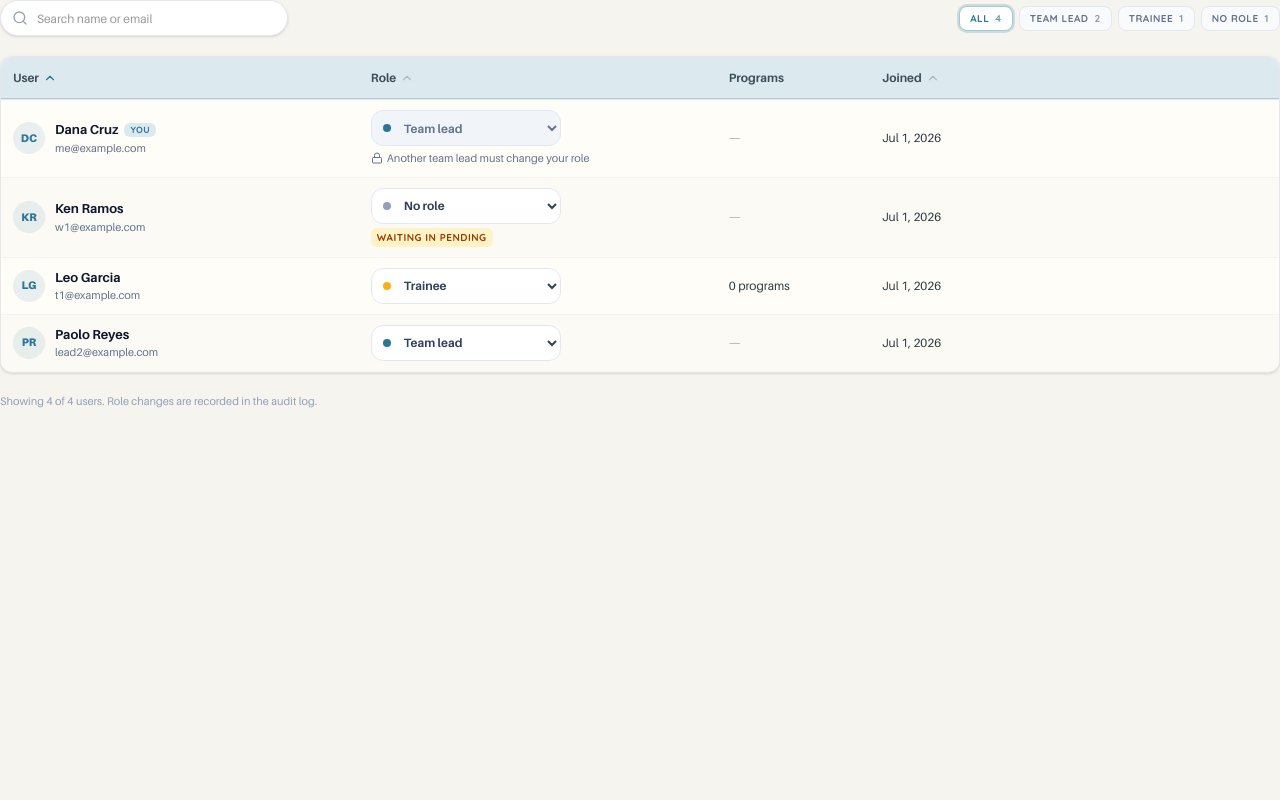
Scenario: UserRolesTable › uses the red confirm to remove access
The image size is (1280, 800).
Select "No role" in the dropdown named "Role for Paolo Reyes": (466, 342) [371,324,561,360]
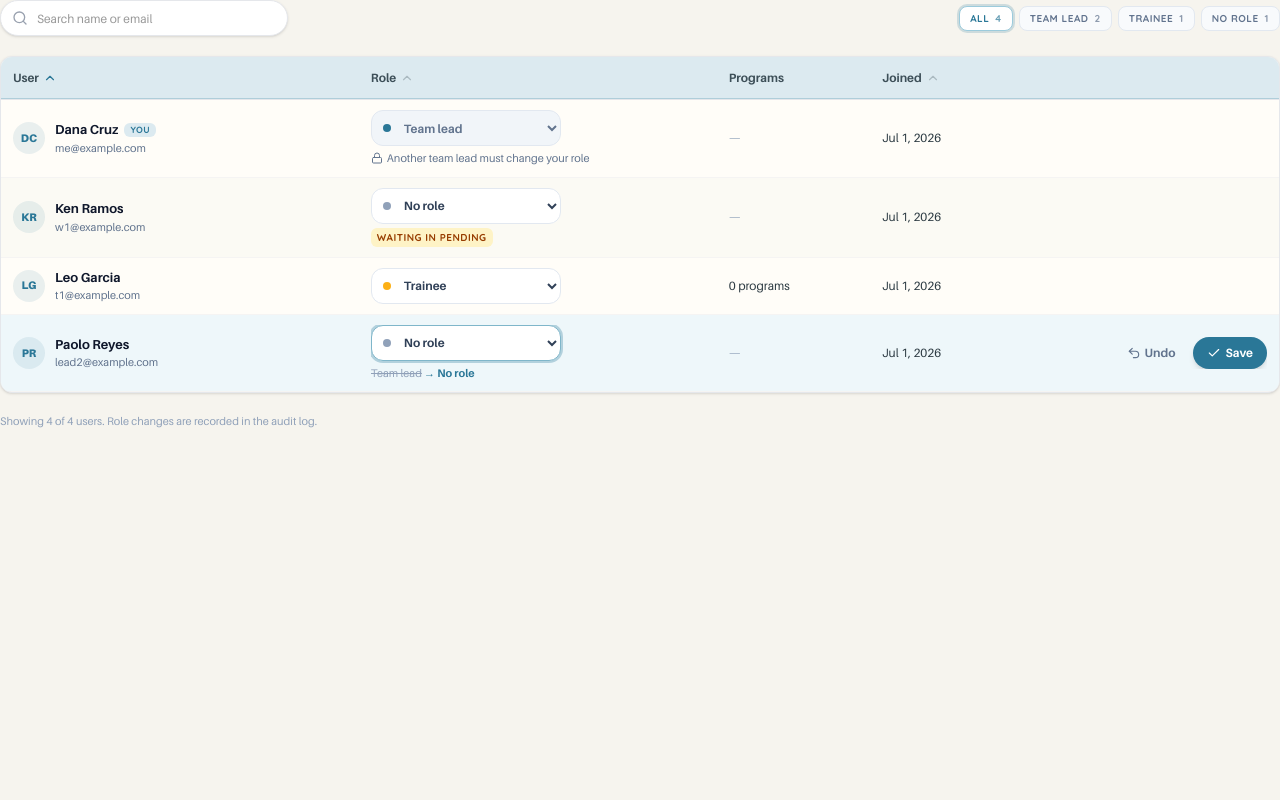
Click the button with aria-label "Save role for Paolo Reyes": (1230, 353) [1193,337,1267,369]
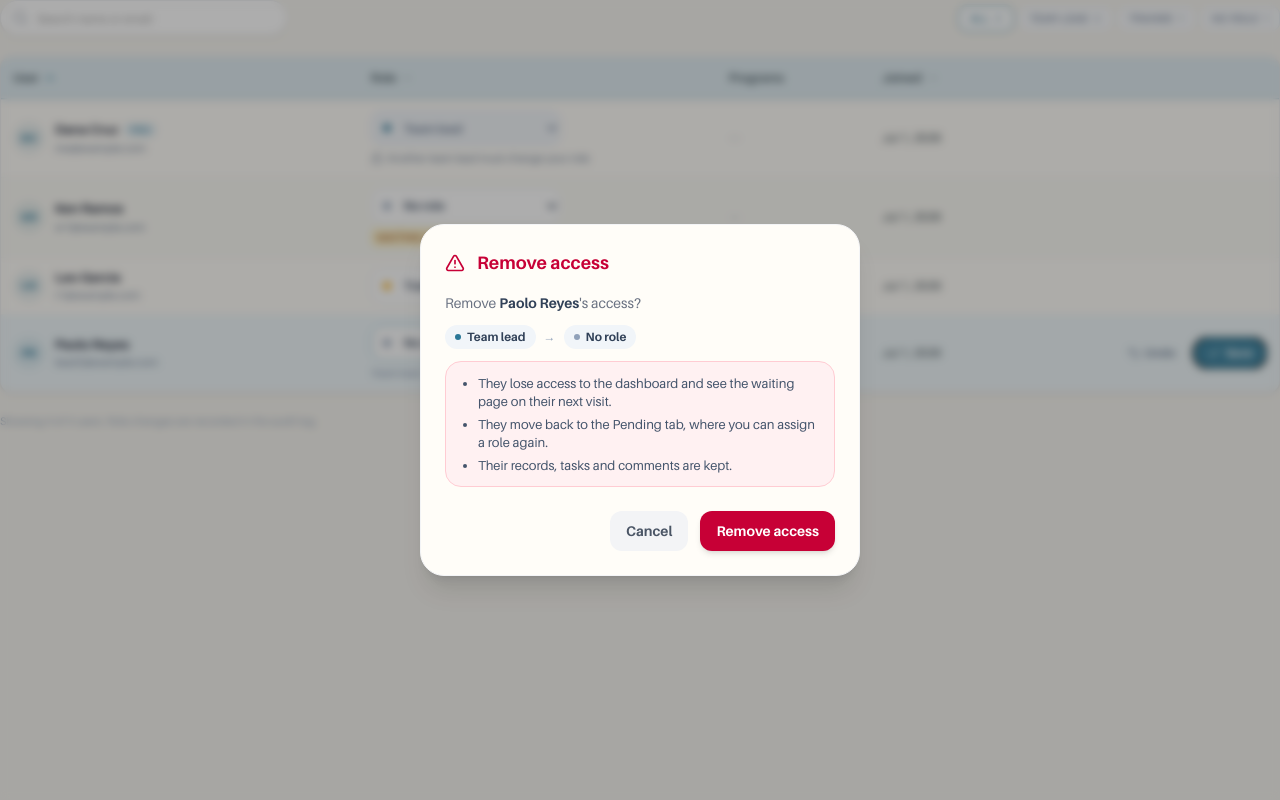
expect the heading "Remove access" is shown: met, box [477,249,609,277]
